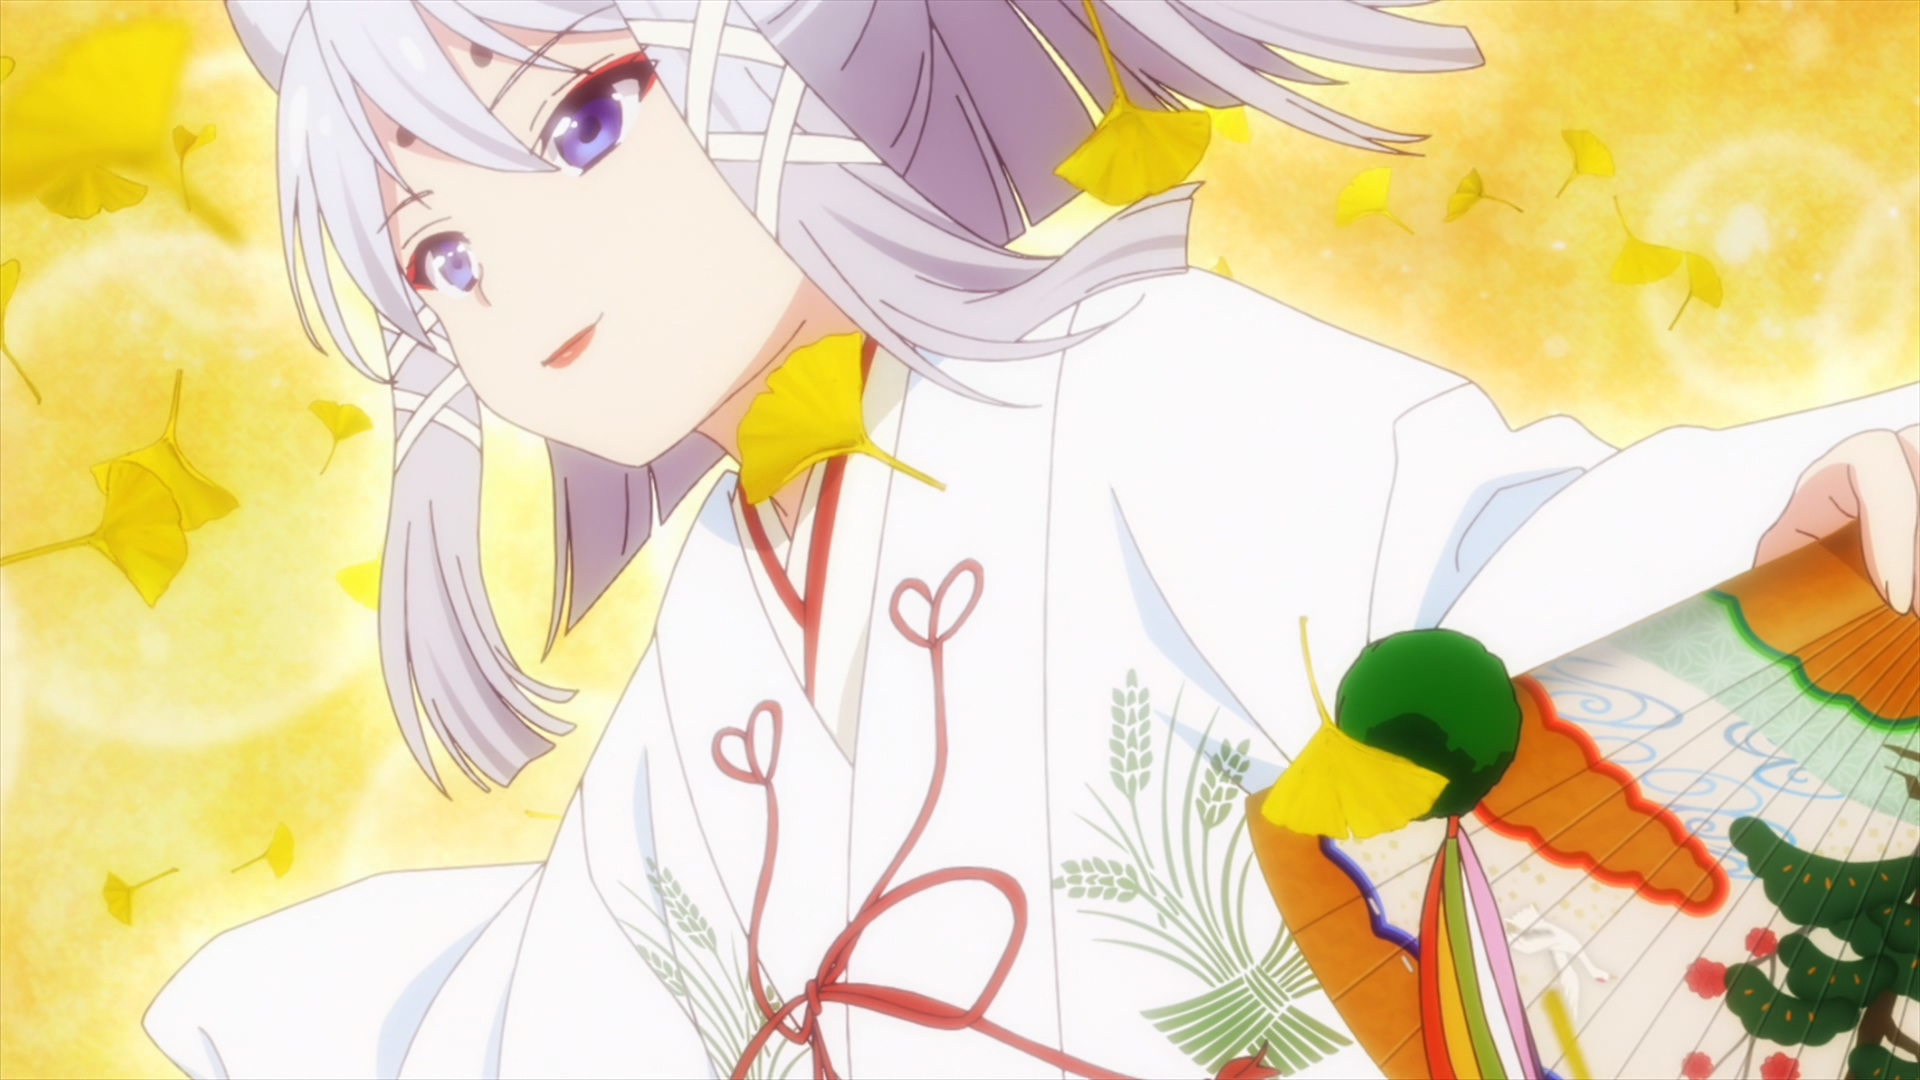柊: (138, 1, 1920, 1080)
